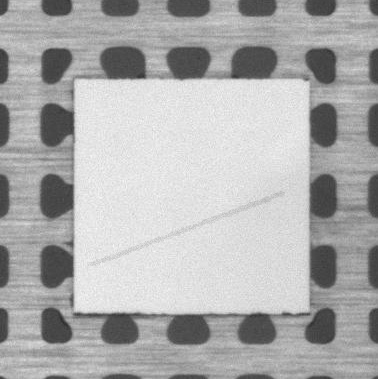DIE_CRACK: (91, 194, 283, 266)
